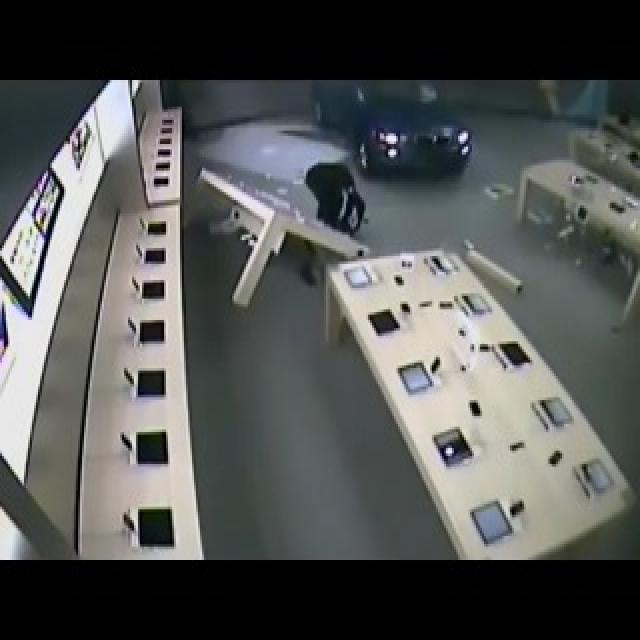thief: (301, 148, 365, 256)
